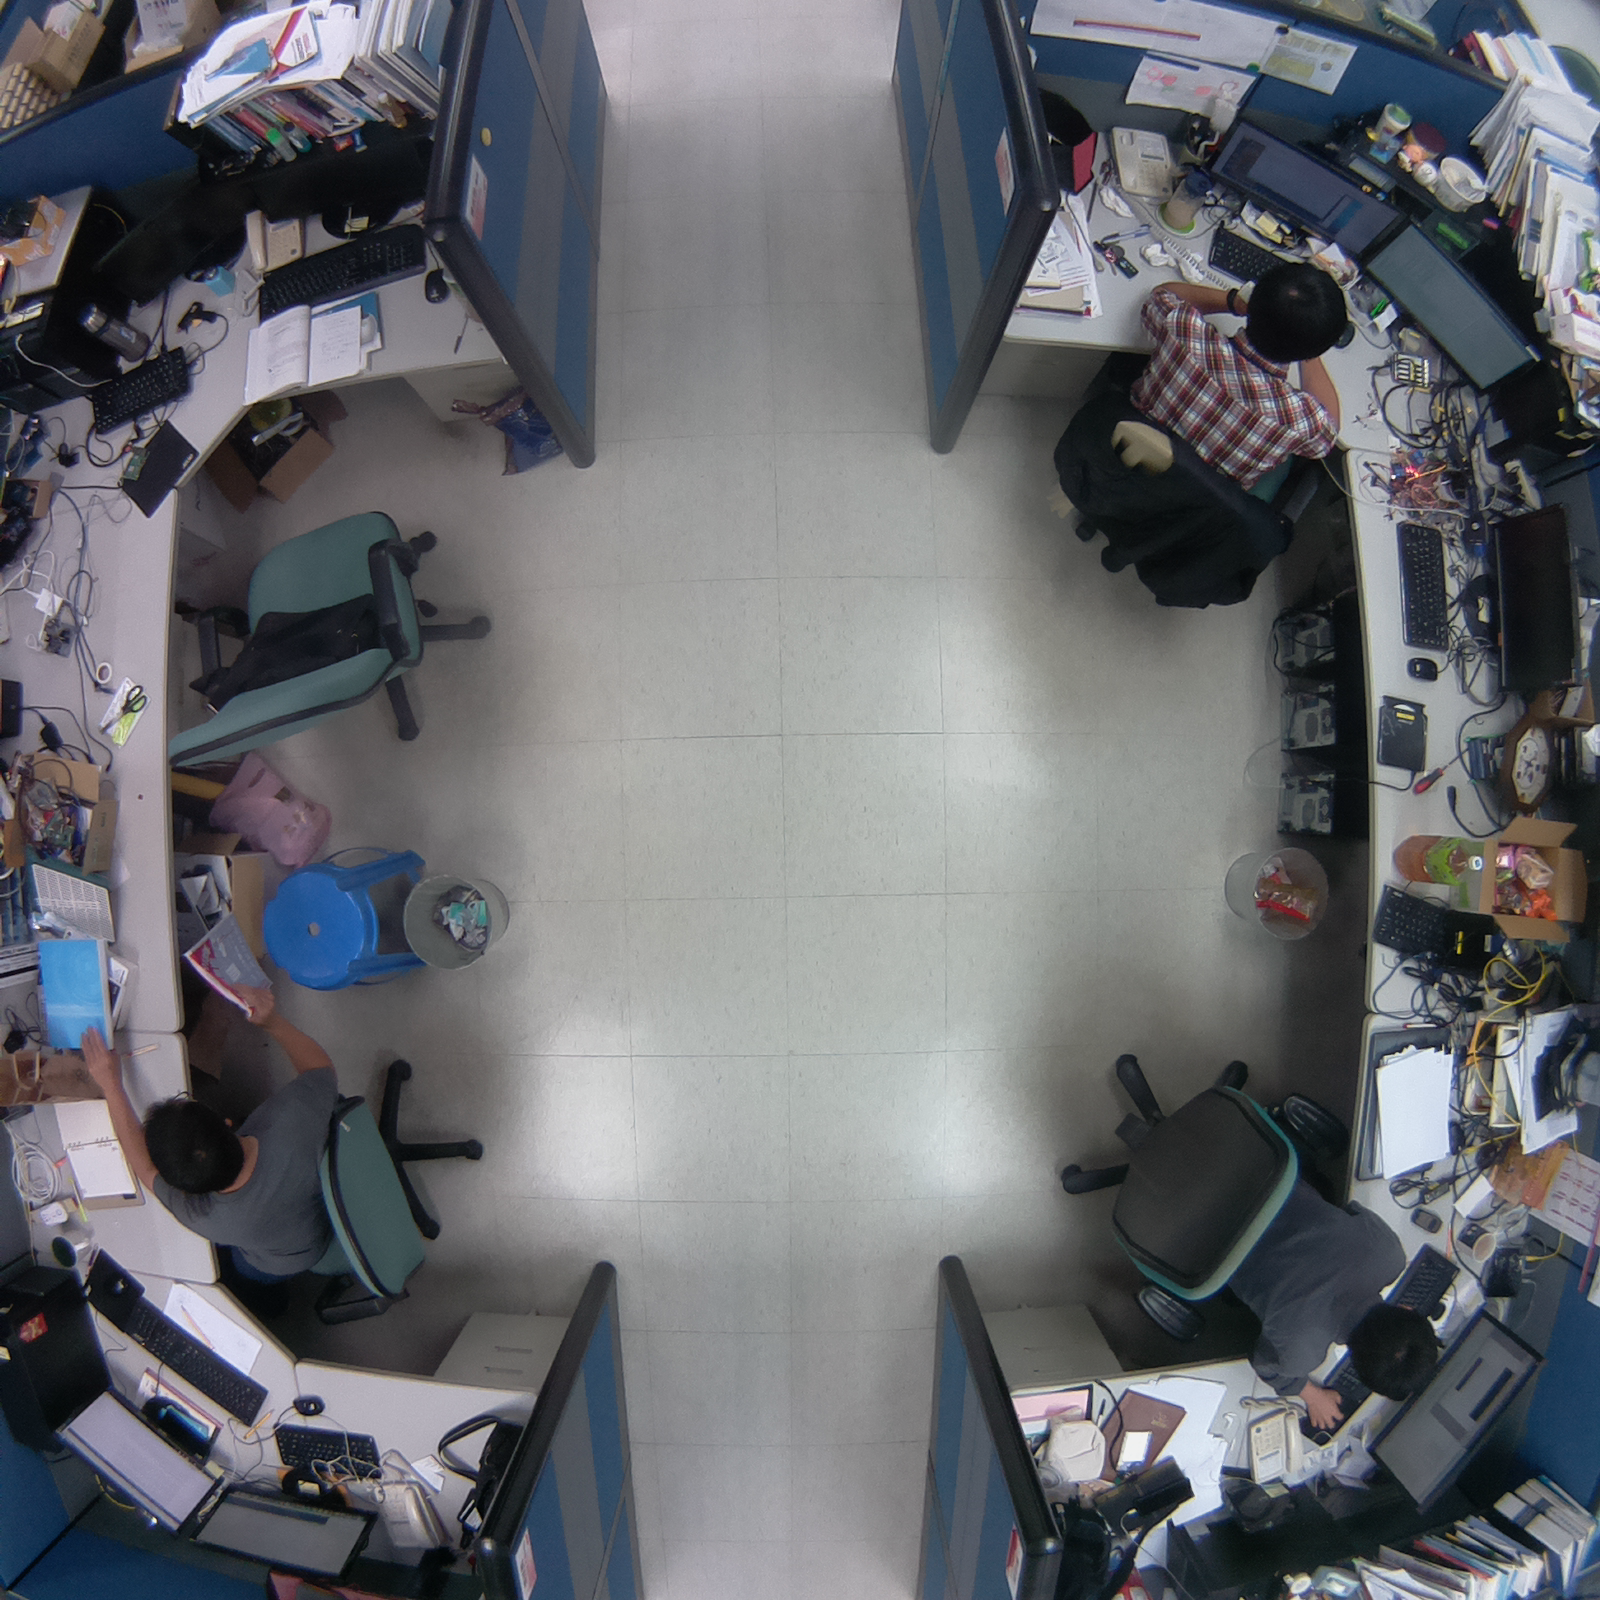chair: (153, 491, 524, 786)
head: (137, 1090, 251, 1201), (1243, 259, 1355, 367), (1351, 1303, 1445, 1403)
sitting: (1032, 1040, 1462, 1437), (85, 1004, 509, 1329), (1035, 240, 1355, 624)
